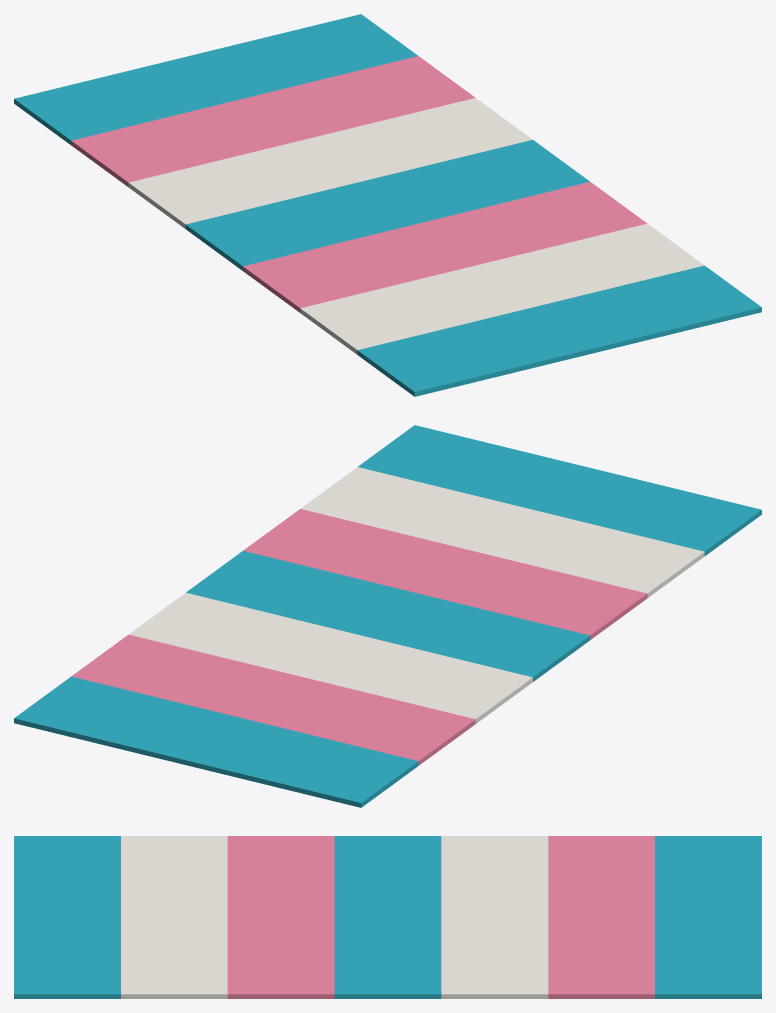
Rendered from Prop_Towel_B.fbx.
The picture shows the model from 3 angles, top to bottom: view 1: azimuth 30°, elevation 25°; view 2: azimuth 150°, elevation 25°; view 3: azimuth 270°, elevation 25°; orthographic projection. The views are drawn at different scales.
Visible parts, largest first — view 1: Prop_Towel_B.001; view 2: Prop_Towel_B.001; view 3: Prop_Towel_B.001.
Part boxes in pixels (box(x1,y1,x2,y2)): Prop_Towel_B.001: box(14, 14, 761, 396); Prop_Towel_B.001: box(14, 425, 761, 807); Prop_Towel_B.001: box(14, 836, 761, 998).
Bounding box in the file's own units: 0.9 × 0.012 × 1.8.
